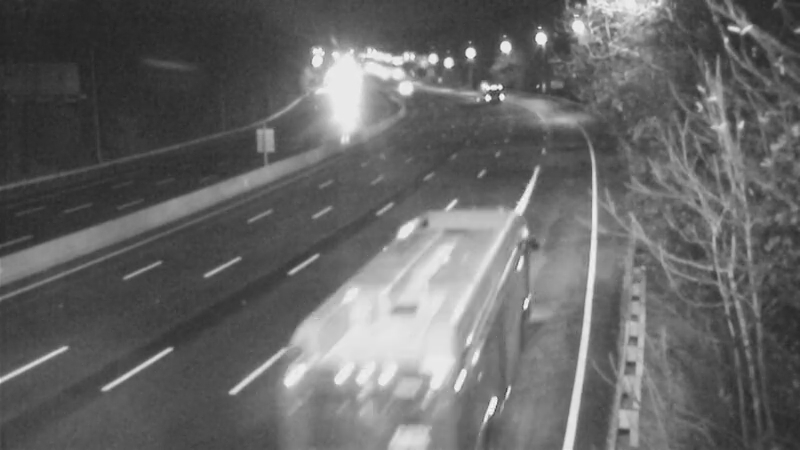vehicle: (449, 214, 529, 294), (376, 60, 426, 110), (458, 67, 508, 117), (316, 78, 366, 128)
